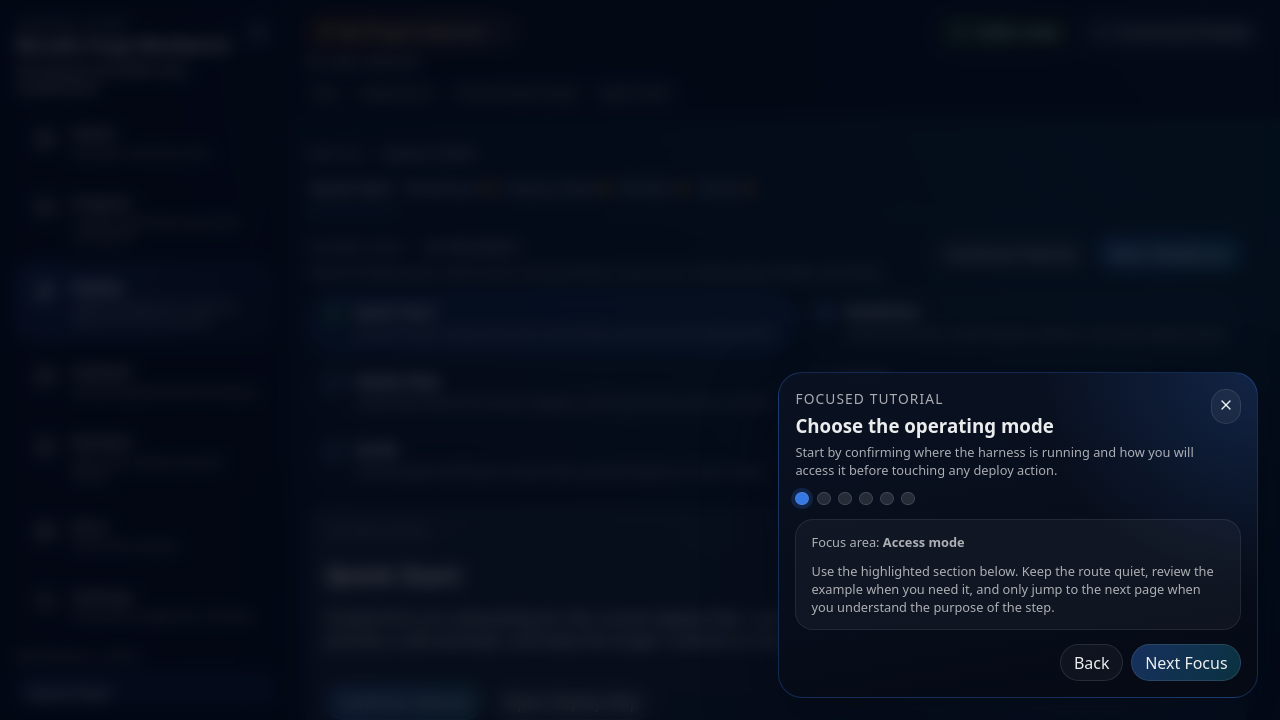
supports dismissing and explicitly resuming the guided quick-start tutorial
Step 1. Click the button named "Dismiss tutorial" → [1226, 407], box x1=1211 y1=389 x2=1241 y2=424
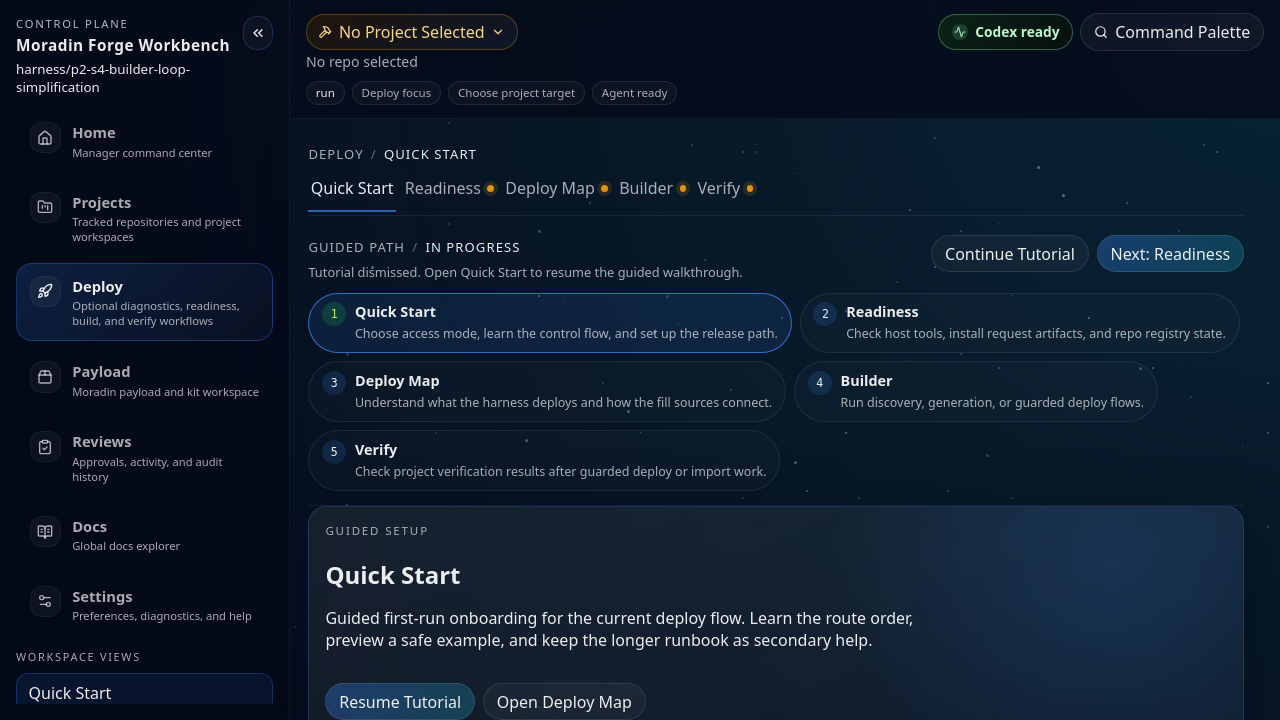
Now the button "Resume Tutorial" is shown
Step 2. Click the button "Resume Tutorial" → [400, 702], box x1=325 y1=683 x2=475 y2=719
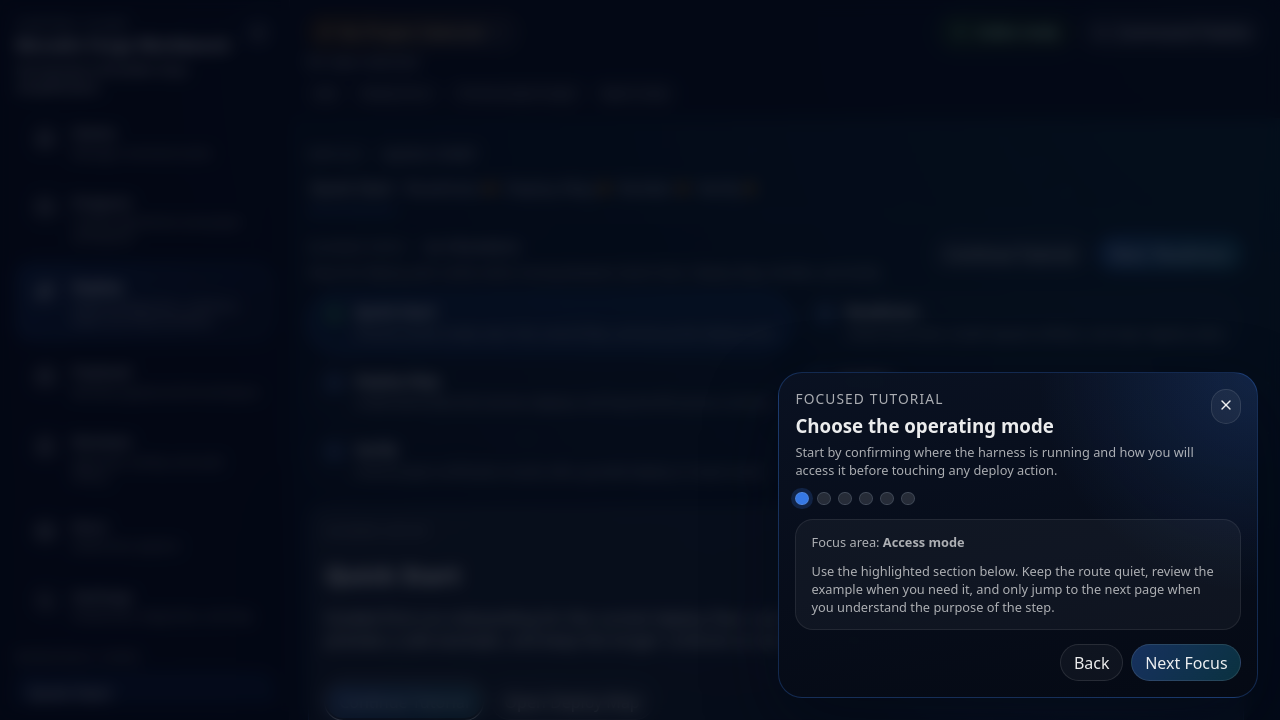
Now the button named "Dismiss tutorial" is shown, box x1=1211 y1=389 x2=1241 y2=424
